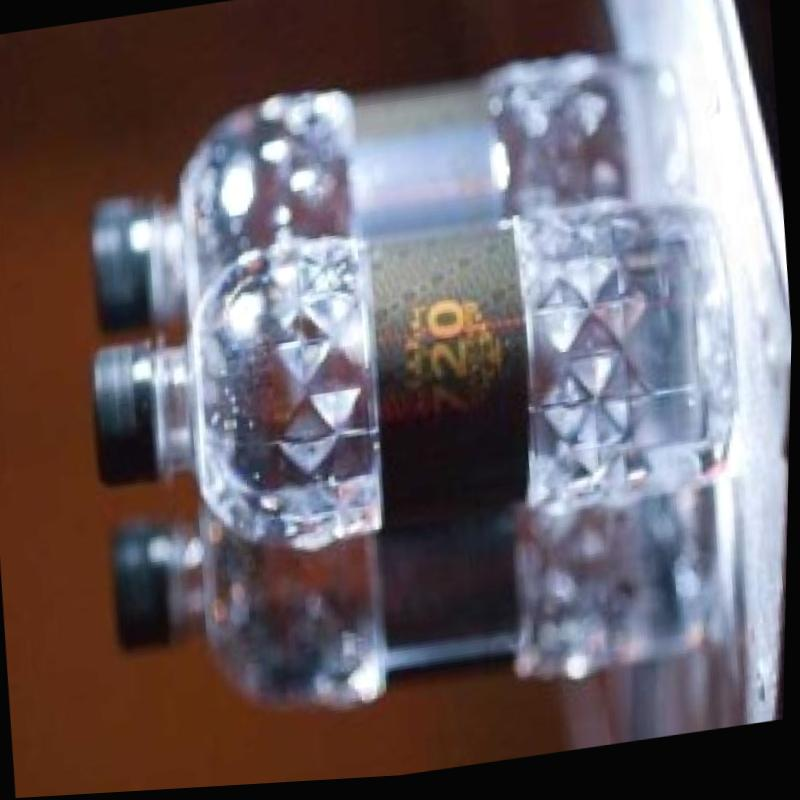botella: (76, 178, 745, 582), (93, 423, 728, 746), (73, 40, 688, 360)
